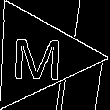M_N: (11, 30, 65, 82)
